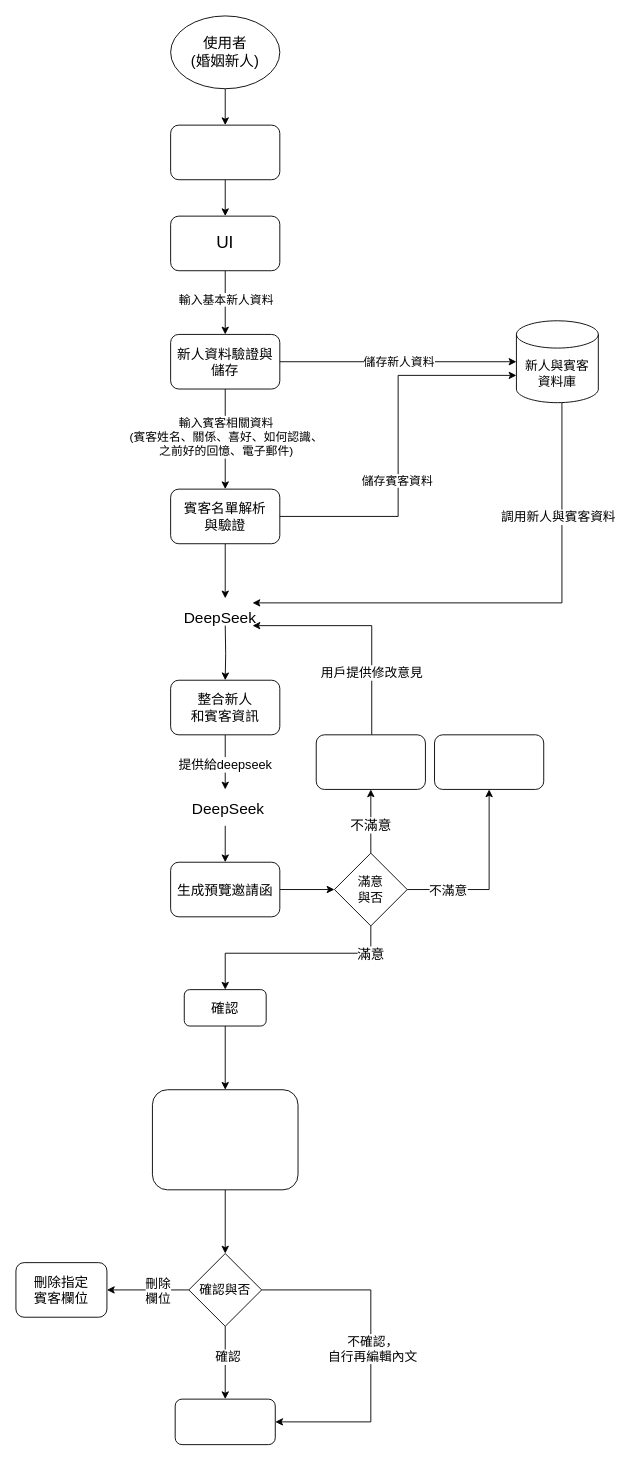
Image size: 631x1461. Some labels were removed from this diagram. Each missing label, with the centre of its shape:
"再編輯，重新生成邀請函" belongs at (370,761).
"刪除該預覽 邀請函欄位" belongs at (489,761).
"前端顯示個性化邀請函內文和來賓資料、卡片供新人比對確認" belongs at (225,1139).
"發布郵件" belongs at (224,1421).
"網站形式" belongs at (225,152).
